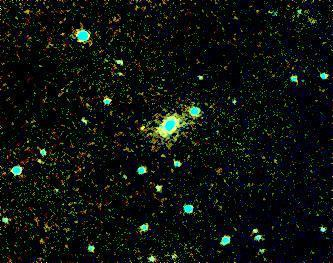star: (126, 113, 156, 143)
